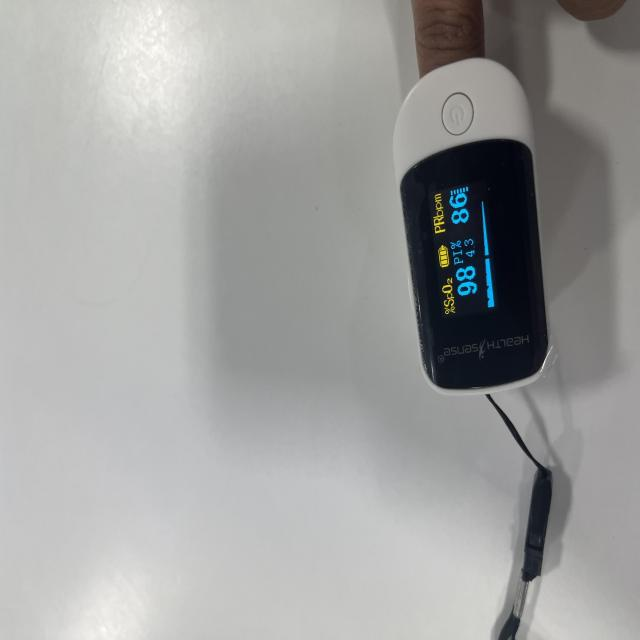spo2: (392, 57, 553, 396)
